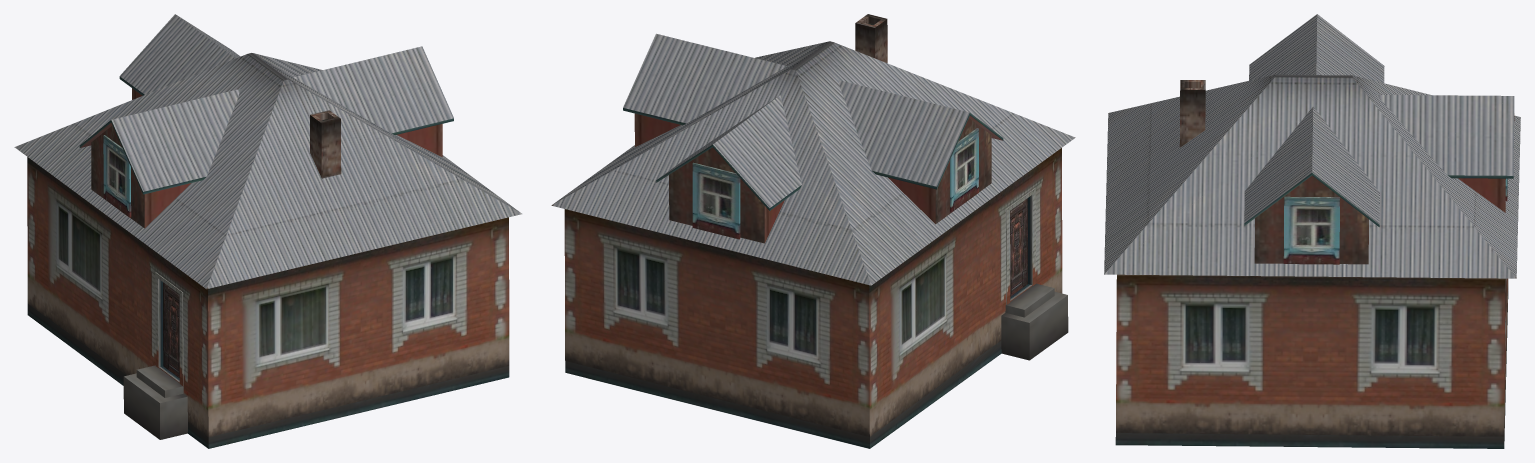
Rendered from House_Five.gltf.
The picture shows the model from 3 angles, left to right: view 1: azimuth 30°, elevation 25°; view 2: azimuth 150°, elevation 25°; view 3: azimuth 270°, elevation 25°; orthographic projection. The views are drawn at different scales.
Parts seen in each view (by area): view 1: Object_7.010; view 2: Object_7.010; view 3: Object_7.010.
Boxes of the visible parts, left/top/right/bottom form: Object_7.010: left=14, top=14, right=521, bottom=448; Object_7.010: left=551, top=14, right=1075, bottom=448; Object_7.010: left=1104, top=14, right=1520, bottom=448.
Bounding box in the file's own units: 32.79 × 26.03 × 33.28.
1 material, 1 textured.
